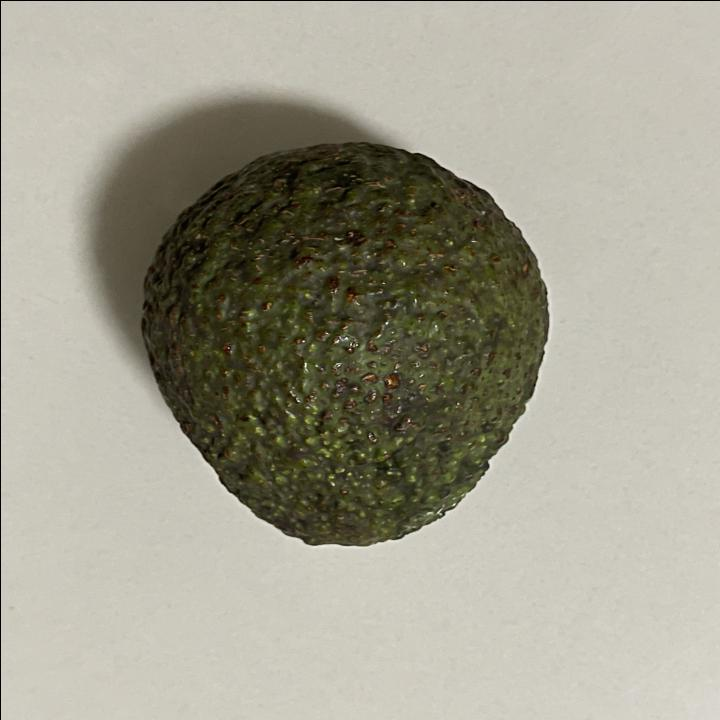Level1: (129, 134, 561, 558)
